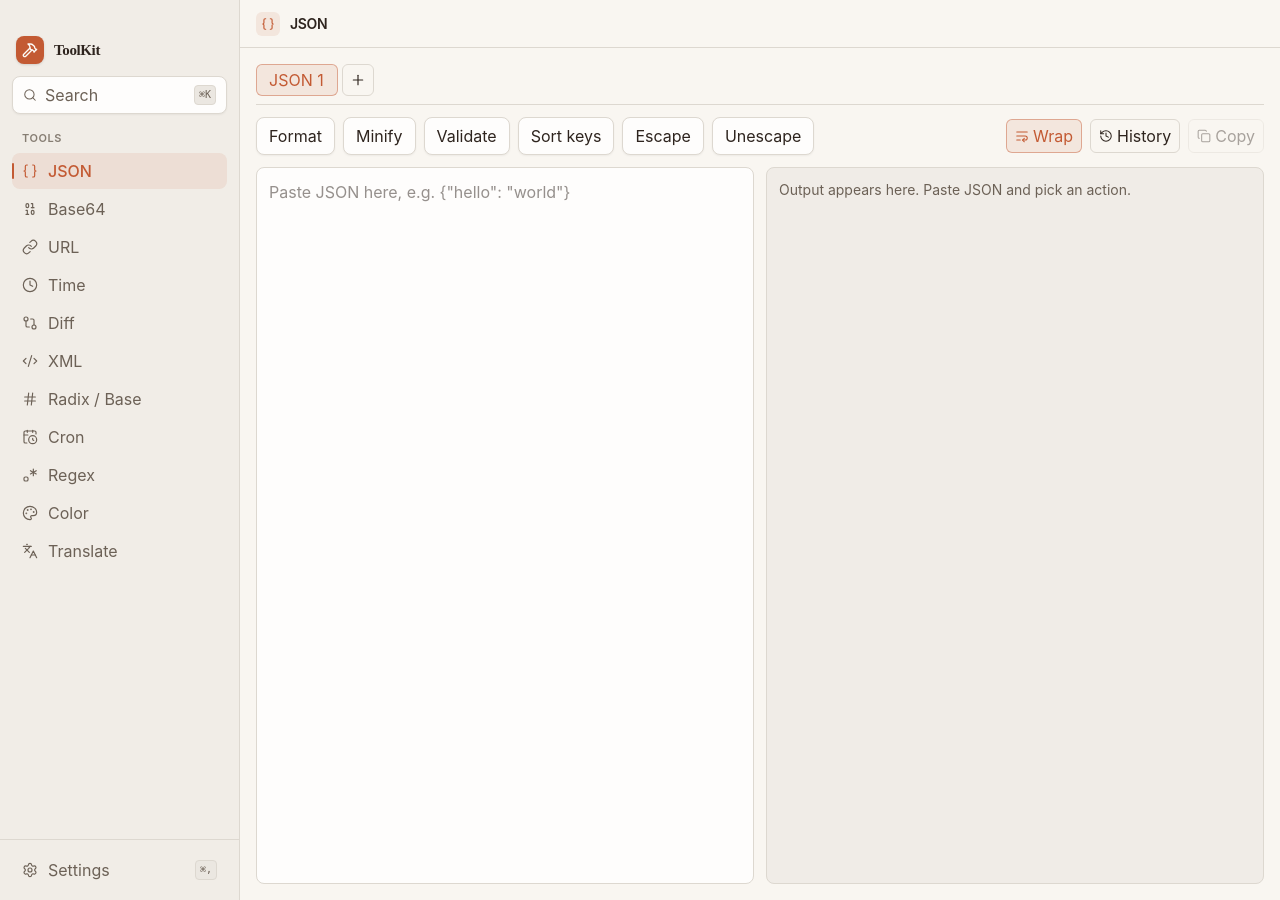
Test: App › closes settings when selecting the active tool from the sidebar
expect the text "ToolKit" is shown: met, box 54,39 -> 100,61
What coordinates should you click on to do the following:
click the button "Settings ⌘,"
I would click on:
 (120, 870)
Its box is 12,852 -> 227,888.
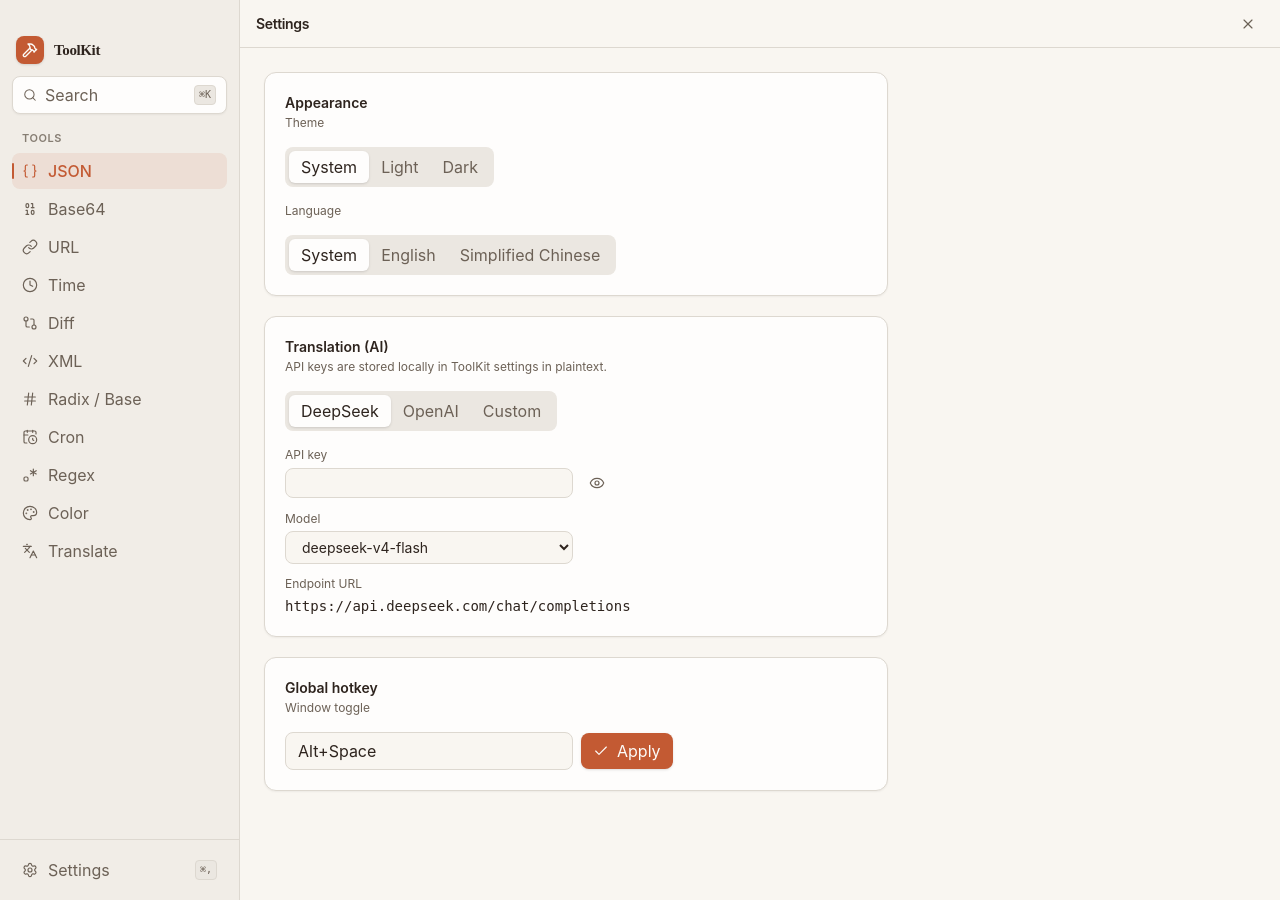
expect the heading "Settings" is shown: met, box 256,14 -> 309,34
What coordinates should you click on to do the following:
click the button "JSON"
I would click on:
 (106, 170)
Its box is 12,152 -> 199,188.
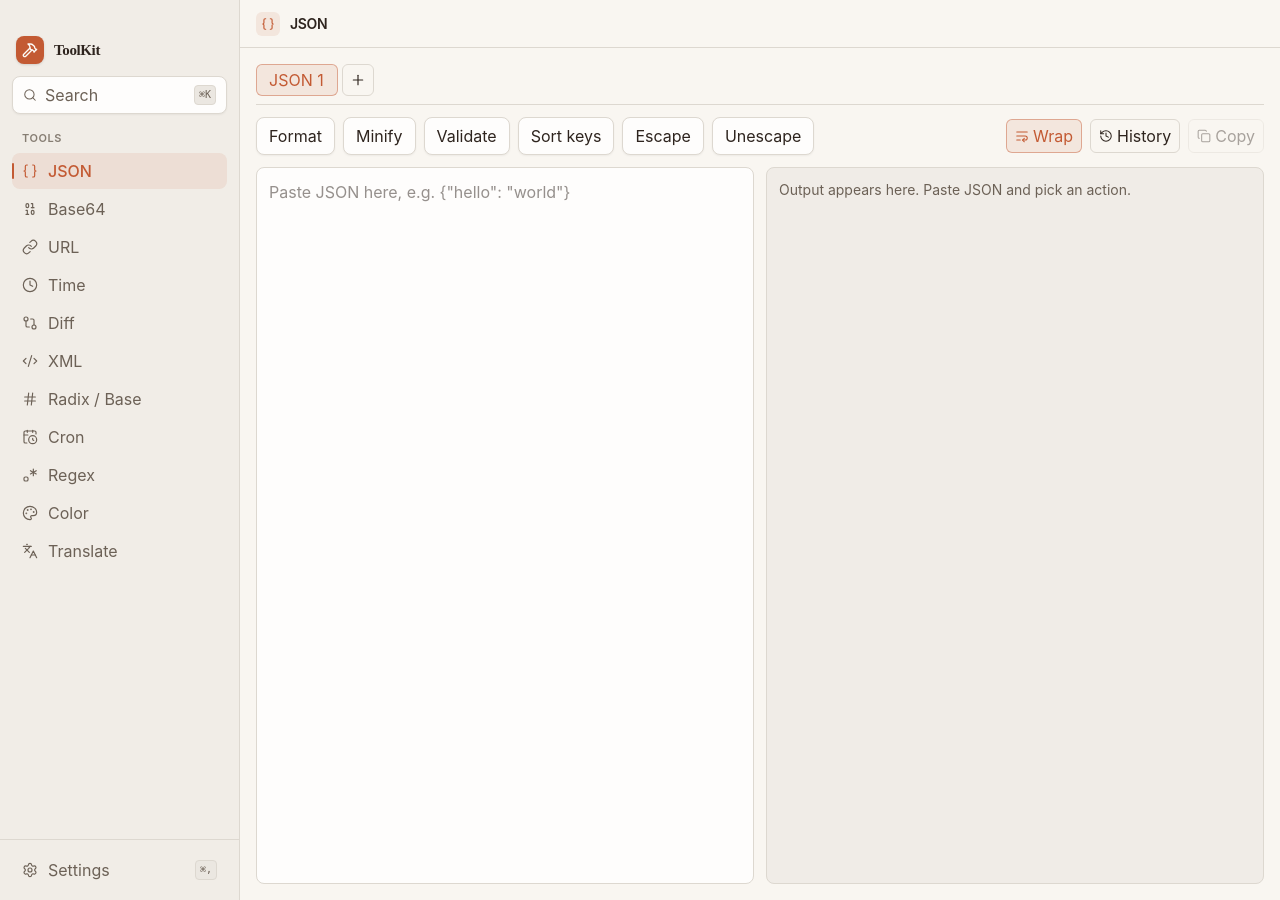
expect the heading "JSON" is shown: met, box 290,14 -> 327,34
